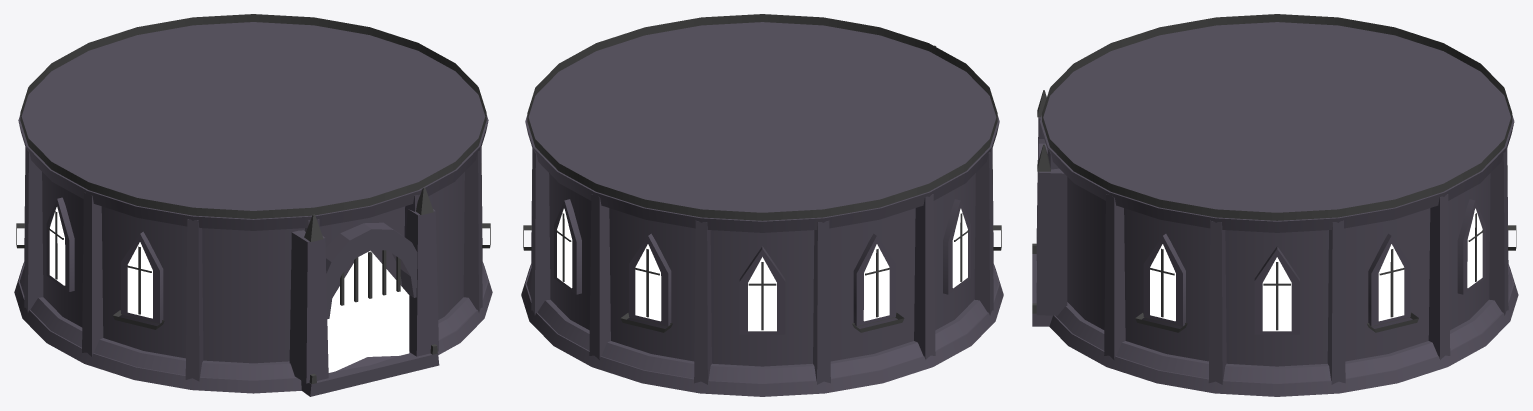
The model's file is Tower_Base_Entrance.fbx.
3 renders of one model, left to right at view 1: azimuth 30°, elevation 25°; view 2: azimuth 150°, elevation 25°; view 3: azimuth 270°, elevation 25°, orthographic.
Parts seen in each view (by area): view 1: Tower_Base_Entrance; view 2: Tower_Base_Entrance; view 3: Tower_Base_Entrance.
Part boxes in pixels (x1=…): Tower_Base_Entrance: x1=14, y1=14, x2=492, y2=396; Tower_Base_Entrance: x1=521, y1=14, x2=1003, y2=396; Tower_Base_Entrance: x1=1032, y1=14, x2=1518, y2=396.
Bounding box in the file's own units: 70.6 × 29.3 × 71.1.
